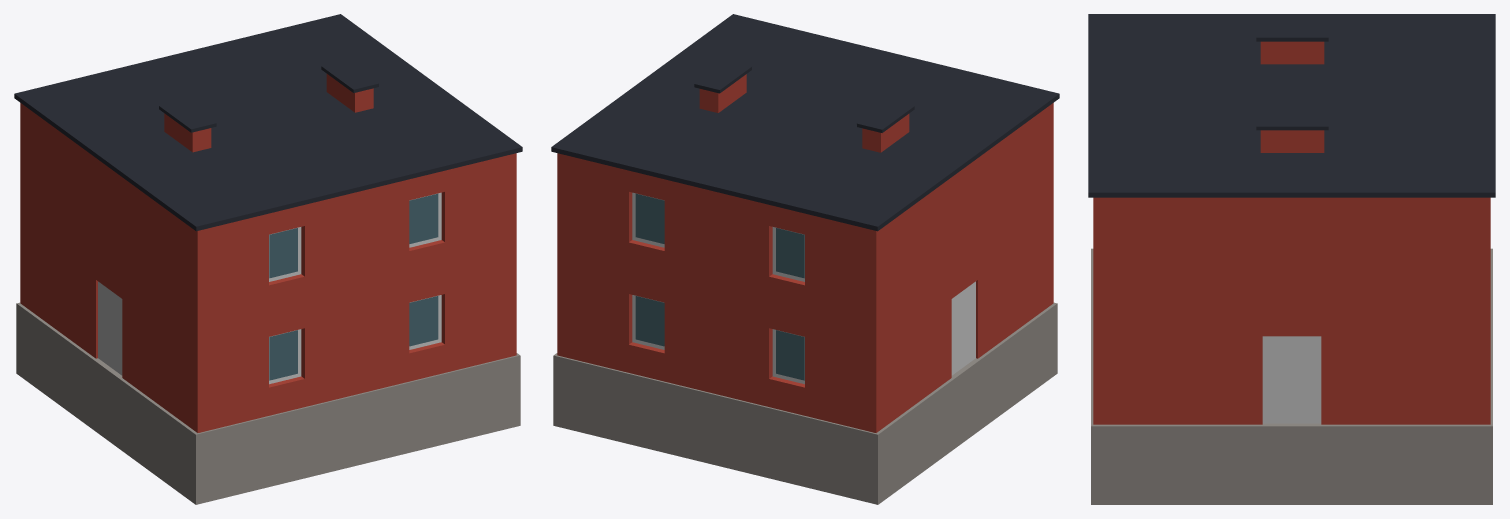
File: house_bata_01.fbx
3 renders of one model, left to right at view 1: azimuth 30°, elevation 25°; view 2: azimuth 150°, elevation 25°; view 3: azimuth 270°, elevation 25°, orthographic. The views are drawn at different scales.
Visible parts, largest first — view 1: bata_house_01; view 2: bata_house_01; view 3: bata_house_01.
Part boxes in pixels (x1=…): bata_house_01: x1=14, y1=14, x2=522, y2=504; bata_house_01: x1=551, y1=14, x2=1059, y2=504; bata_house_01: x1=1088, y1=14, x2=1495, y2=504.
Size of the model in its own units: 919 by 820 by 887.
